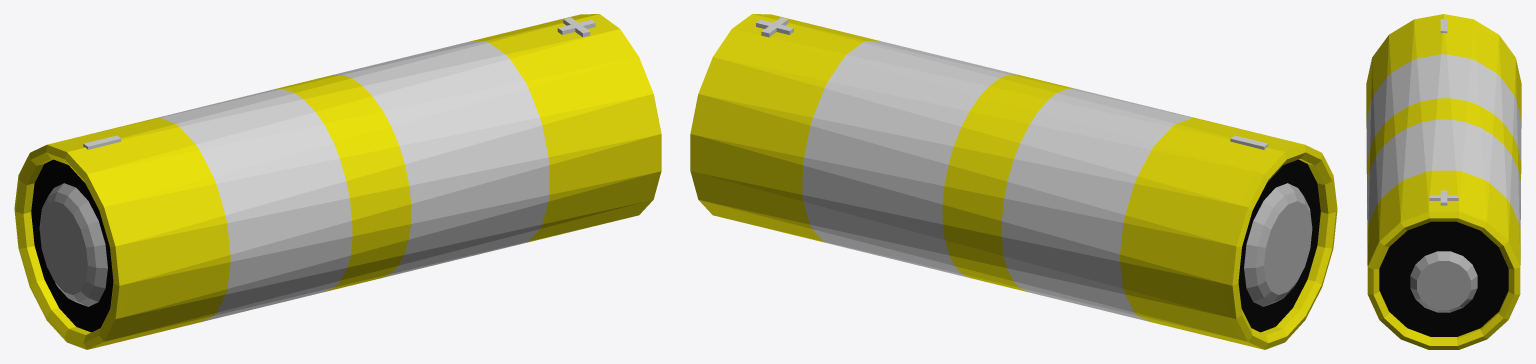
File: najmniejsza_bateria.fbx
3 renders of one model, left to right at view 1: azimuth 30°, elevation 25°; view 2: azimuth 150°, elevation 25°; view 3: azimuth 270°, elevation 25°, orthographic. The views are drawn at different scales.
Parts seen in each view (by area): view 1: Cylinder; view 2: Cylinder; view 3: Cylinder.
Part boxes in pixels (left/top/right/bottom): Cylinder: left=14, top=14, right=661, bottom=349; Cylinder: left=690, top=14, right=1337, bottom=349; Cylinder: left=1366, top=14, right=1521, bottom=349.
Size of the model in its own units: 4.31 by 1.42 by 1.4.
